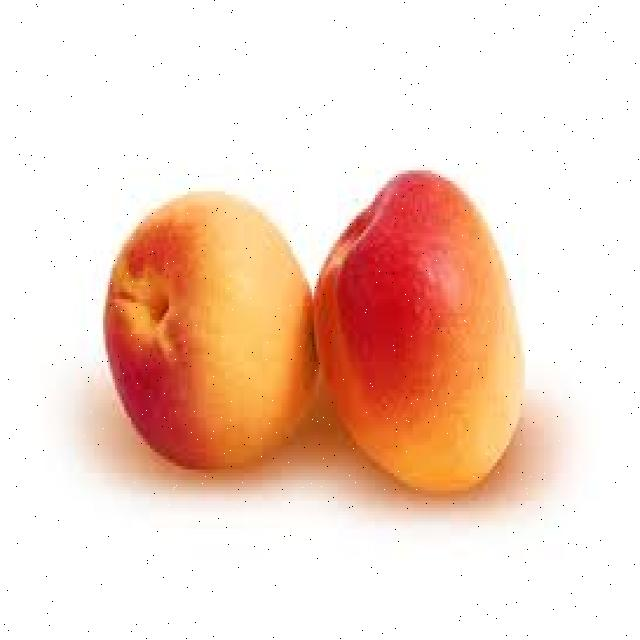kayisi: (317, 165, 536, 501), (107, 176, 316, 474)
